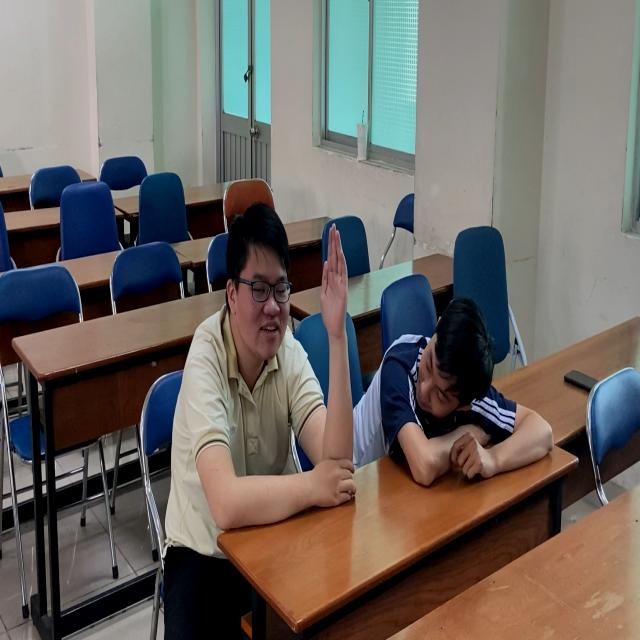raise_hand: (166, 198, 360, 549)
